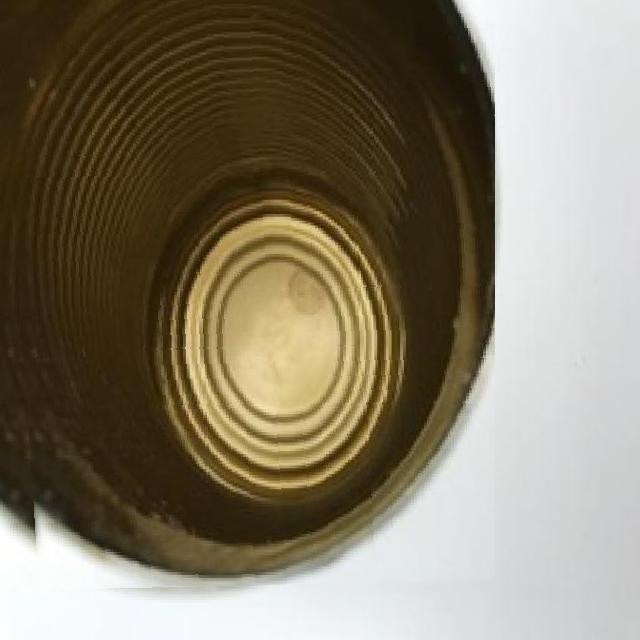recyclable: (0, 0, 495, 590)
